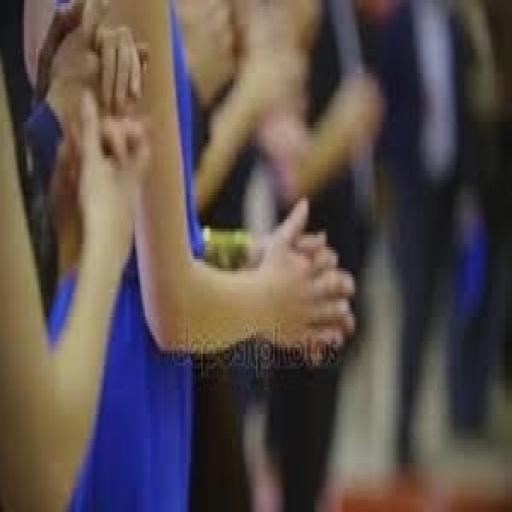clapping: (20, 0, 367, 509)
